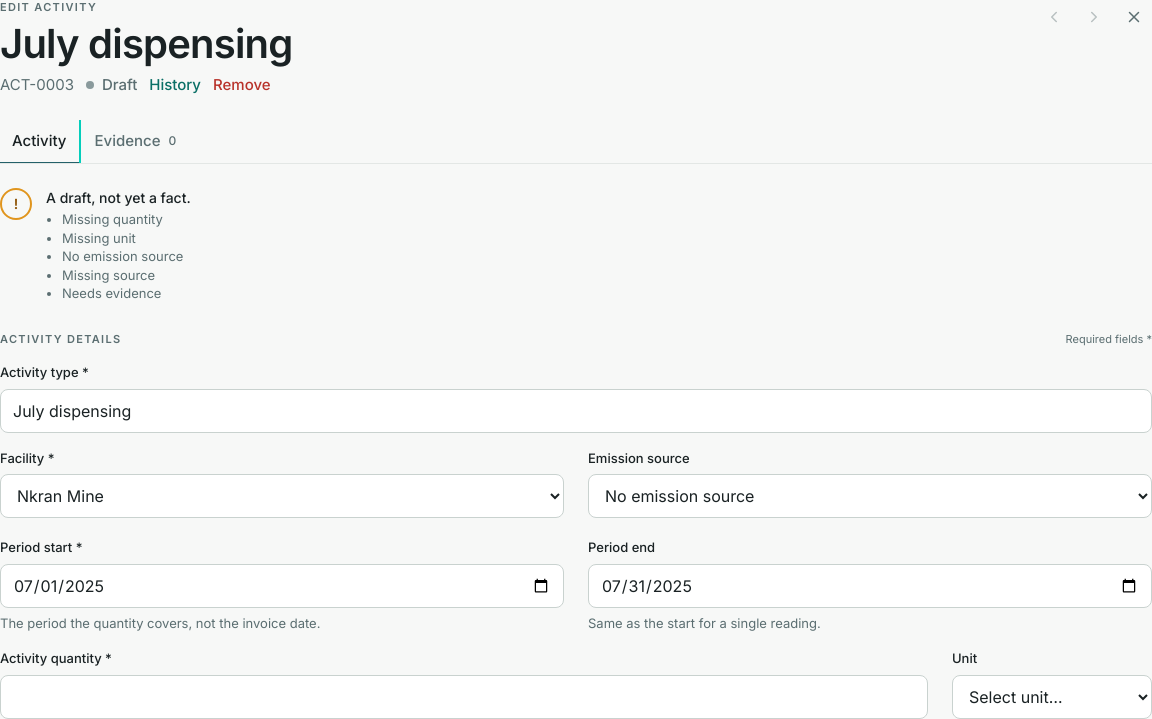
a server field error lands beside its field
Type "12500" into the number field labelled "Activity quantity *" at (464,697), box 0,675 -> 928,718
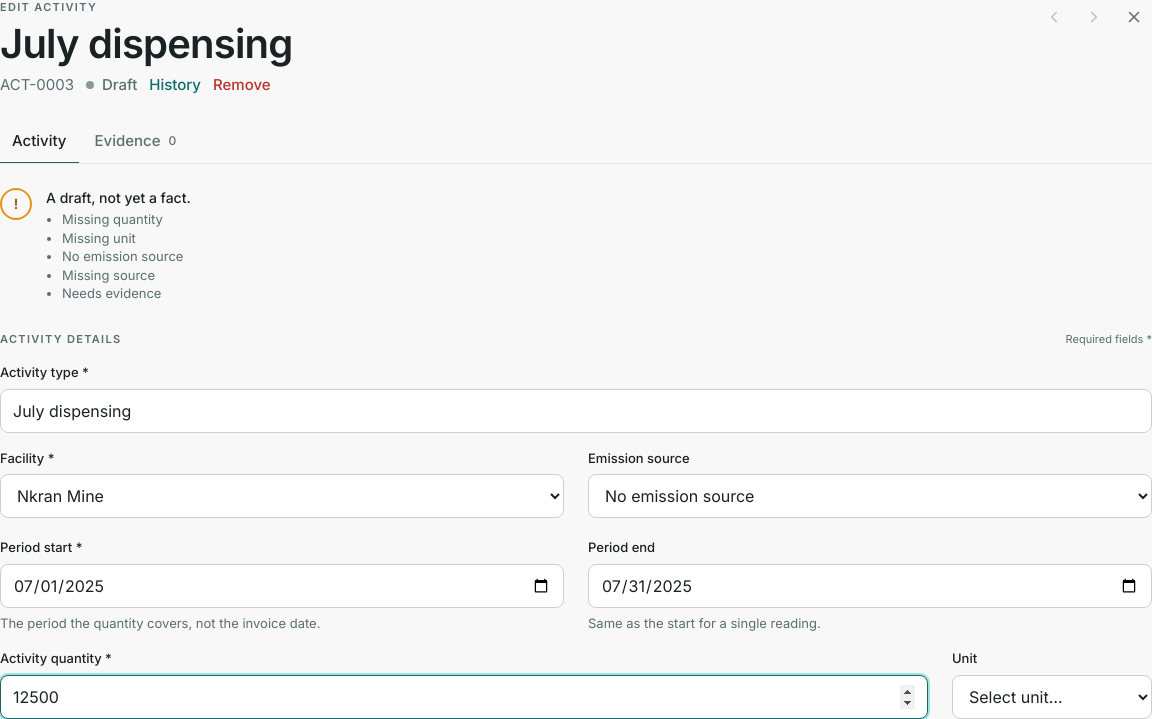
Select "Litre (litre)" in the dropdown labelled "Unit" at (1052,697), box 952,675 -> 1151,718
(page scrolled)
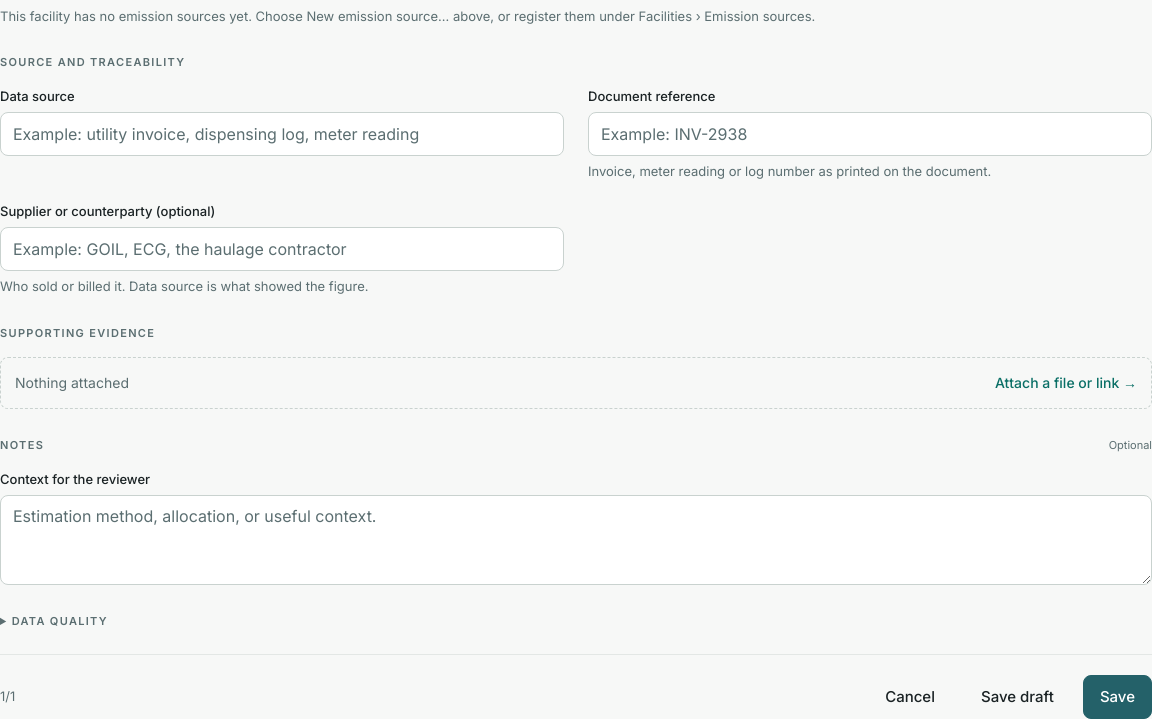
Click the button "Save" at (1117,697), box 1083,675 -> 1151,718
(page scrolled)
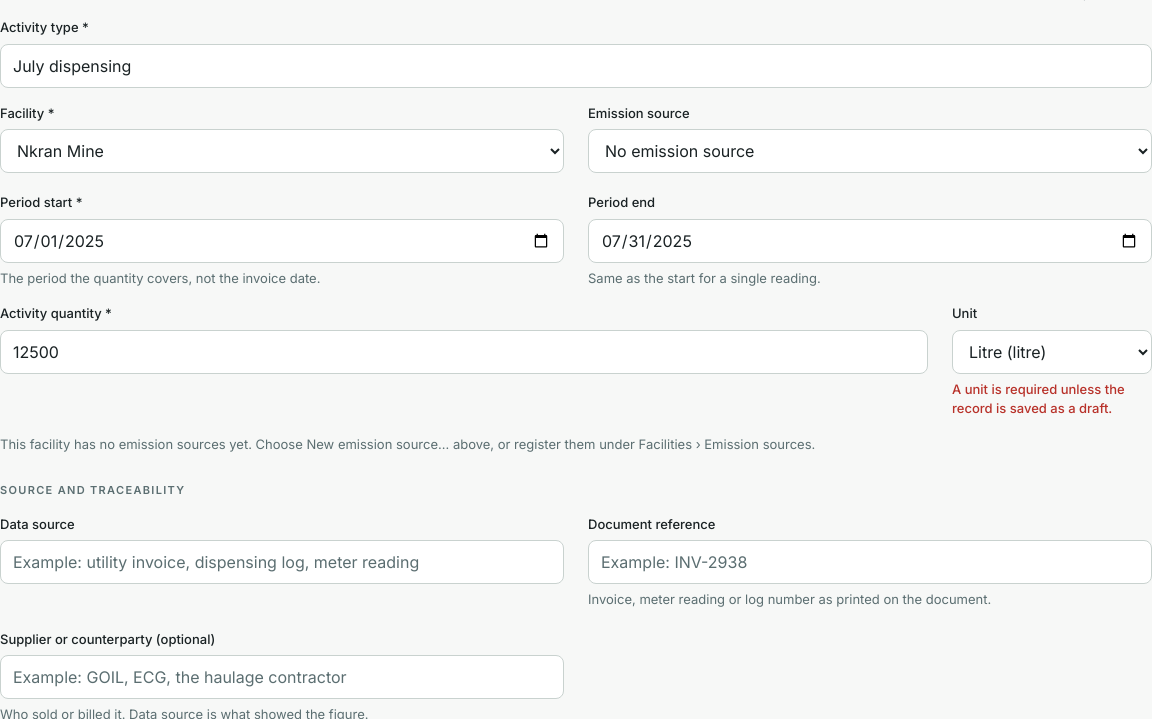
Check: the text "A unit is required unless the record is saved as a draft." is shown, box 952,380 -> 1151,419
